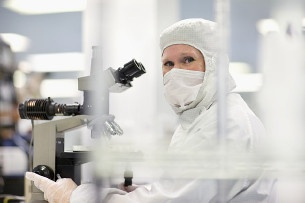Mask: (157, 52, 212, 107)
